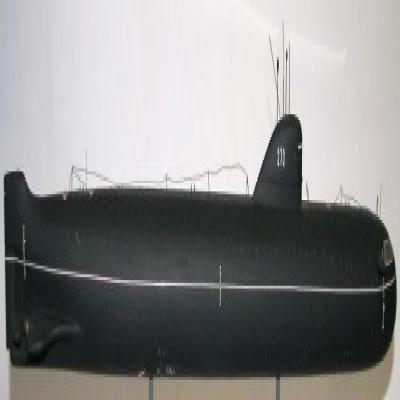other: (3, 114, 400, 400)
